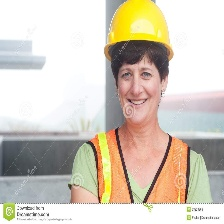helmet: (104, 2, 176, 55)
person: (70, 1, 213, 208)
vest: (86, 135, 189, 209)
